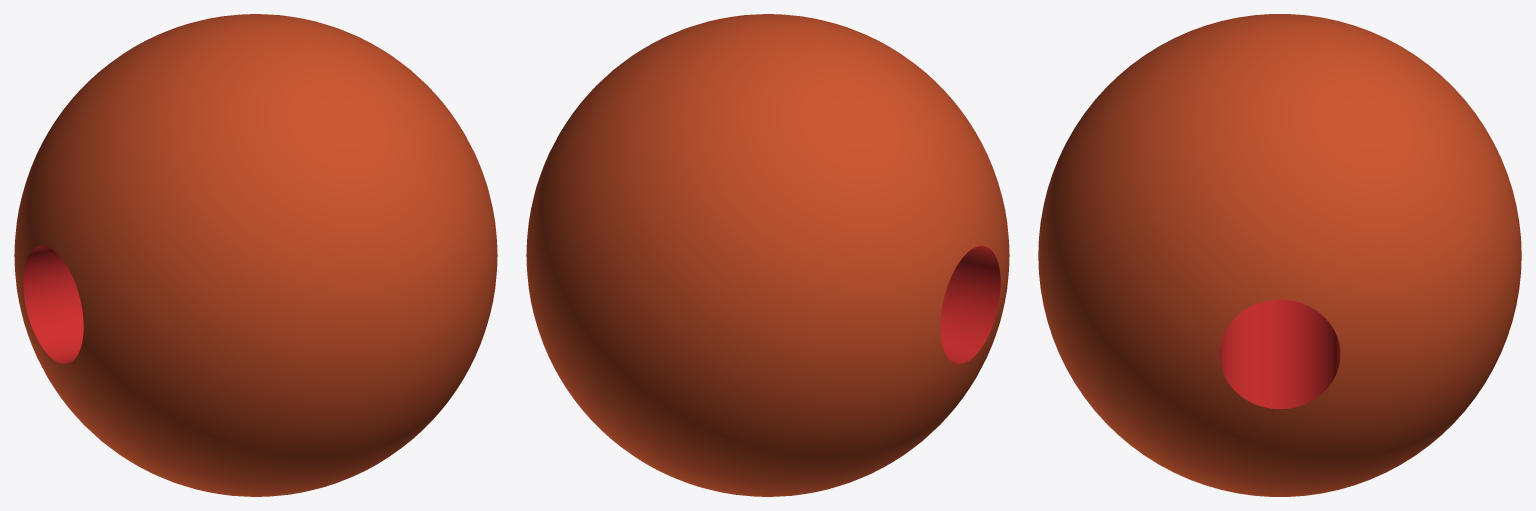
The model's file is Bol oranje.glb.
3 renders of one model, left to right at view 1: azimuth 30°, elevation 25°; view 2: azimuth 150°, elevation 25°; view 3: azimuth 270°, elevation 25°, orthographic.
Bounding box in the file's own units: 0.00775 × 0.00799 × 0.008.
